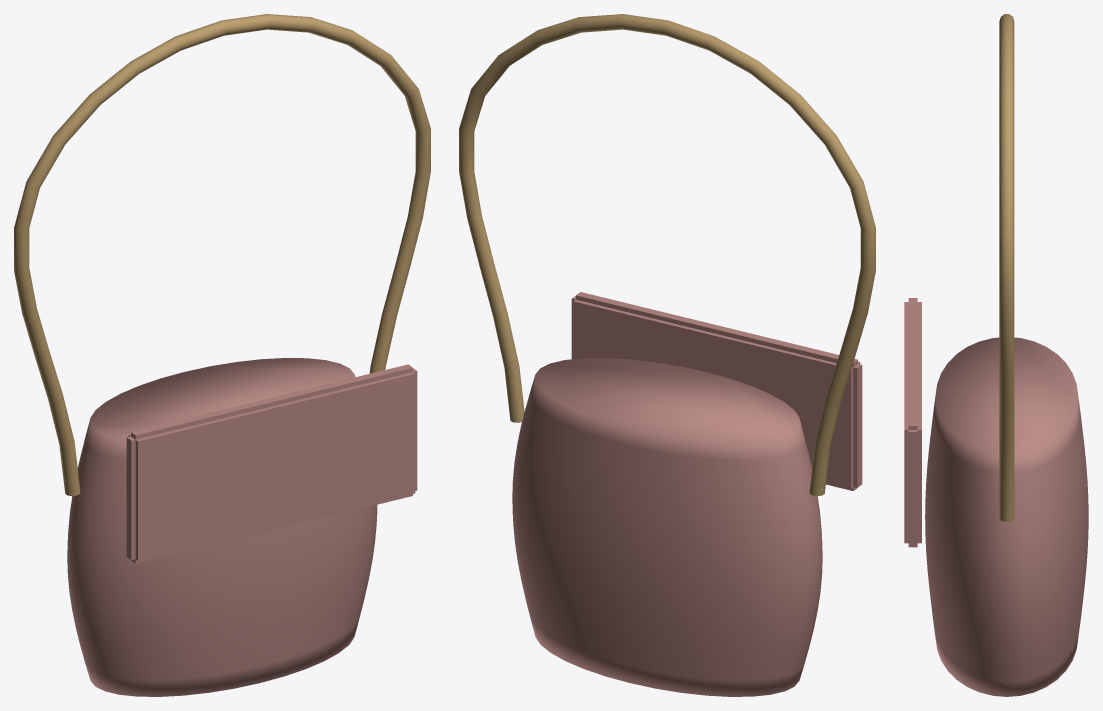
File: sku_v23_crossbody.glb
3 views of the same model, side by side, from view 1: azimuth 30°, elevation 25°; view 2: azimuth 150°, elevation 25°; view 3: azimuth 270°, elevation 25° (orthographic). The views are drawn at different scales.
Parts seen in each view (by area): view 1: sku_v23_crossbody_V23_mineral_rose, sku_v23_crossbody_V23_satin_brass; view 2: sku_v23_crossbody_V23_mineral_rose, sku_v23_crossbody_V23_satin_brass; view 3: sku_v23_crossbody_V23_mineral_rose, sku_v23_crossbody_V23_satin_brass.
Part boxes in pixels (x1,y1,x2,y2): sku_v23_crossbody_V23_mineral_rose: (67,358,417,696); sku_v23_crossbody_V23_satin_brass: (14,14,430,496); sku_v23_crossbody_V23_mineral_rose: (512,292,862,696); sku_v23_crossbody_V23_satin_brass: (459,14,875,496); sku_v23_crossbody_V23_mineral_rose: (904,298,1088,696); sku_v23_crossbody_V23_satin_brass: (999,14,1014,521).
Bounding box in the file's own units: 0.3047 × 0.4454 × 0.124.
